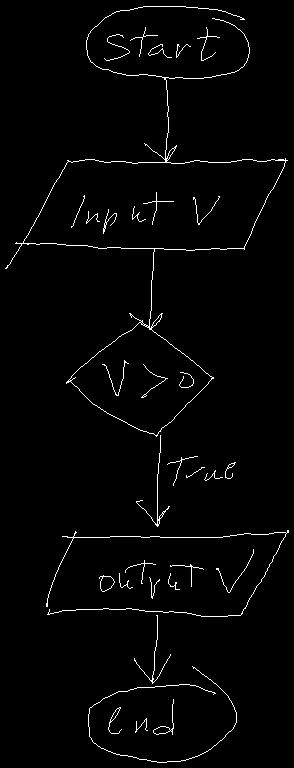arrow: (136, 435, 169, 526), (144, 77, 176, 161), (129, 248, 162, 329), (134, 615, 170, 683)
data: (5, 158, 287, 268), (46, 530, 288, 616)
decision: (66, 320, 213, 436)
terminator: (88, 666, 236, 762), (86, 6, 249, 78)
text: (99, 549, 253, 598), (71, 192, 219, 233), (104, 27, 219, 60), (102, 360, 193, 397), (108, 699, 173, 734), (167, 456, 235, 485)
